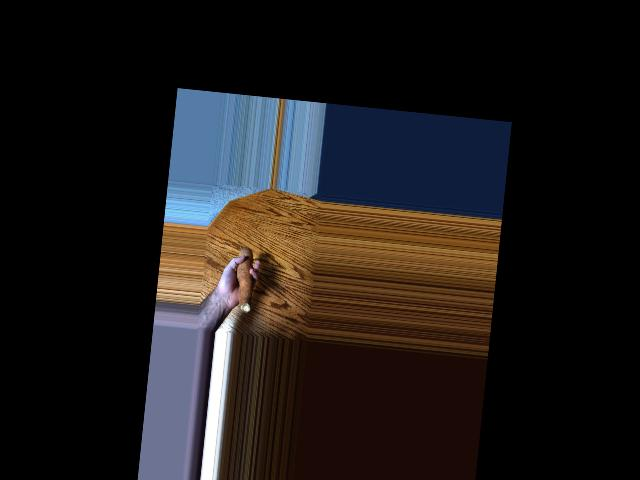sweet_potato: (236, 243, 259, 315)
